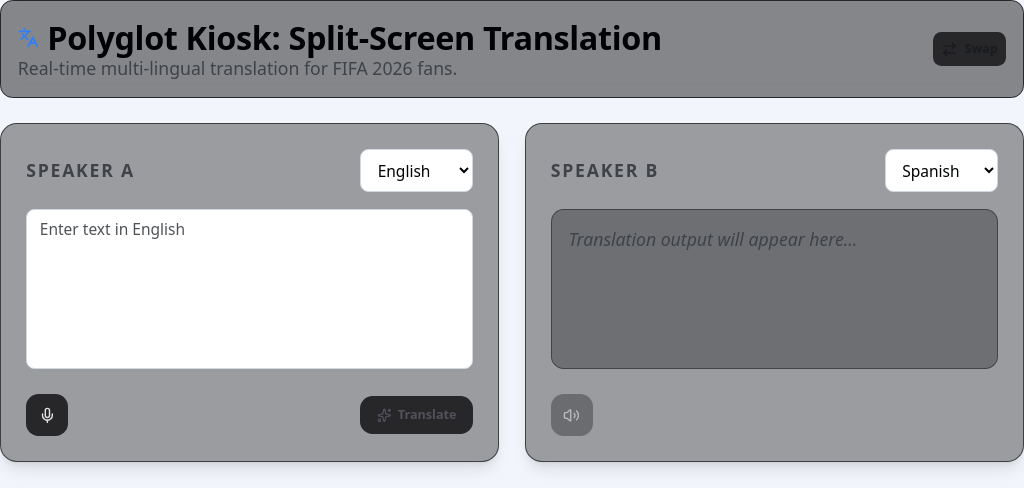
Test case: PolyglotKiosk Unit Component › translates to Arabic (covers L29 branch)
Note: Change target language to Arabic
Select "Arabic" in the dropdown named "Select Target Language for Speaker B": (941, 171) [885,149,998,192]
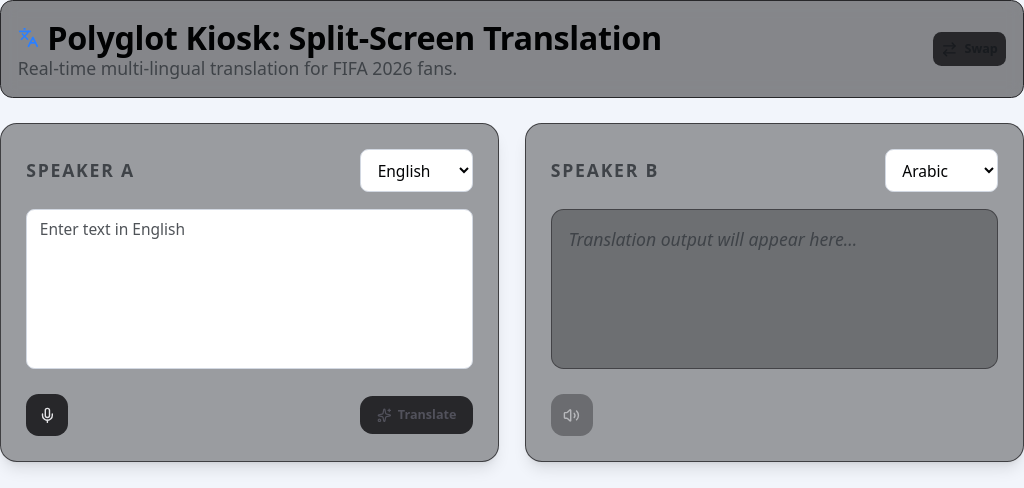
In the text box named "Select Language for Speaker A — English": (250, 289) [26,209,473,369], type "Welcome to the stadium"
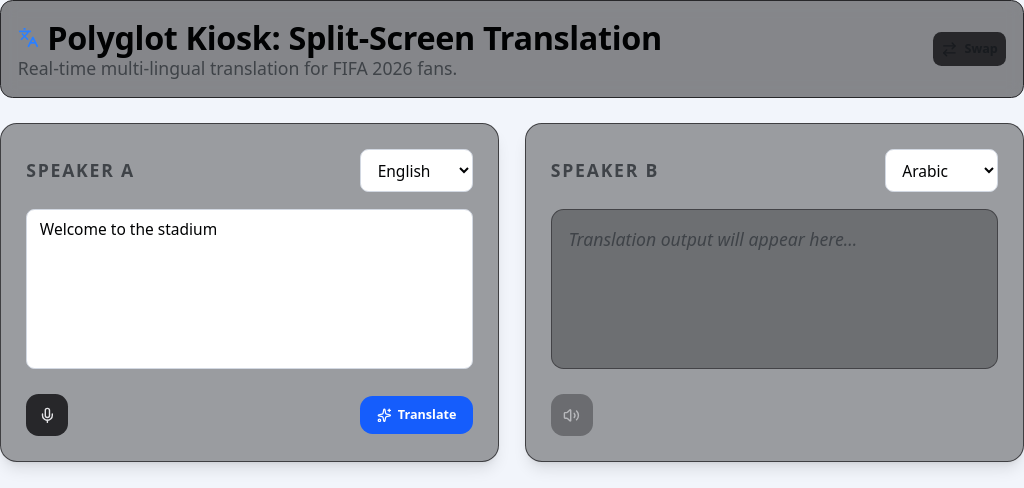
Click the button with aria-label "Translate spoken phrase": (417, 415) [360,396,473,434]
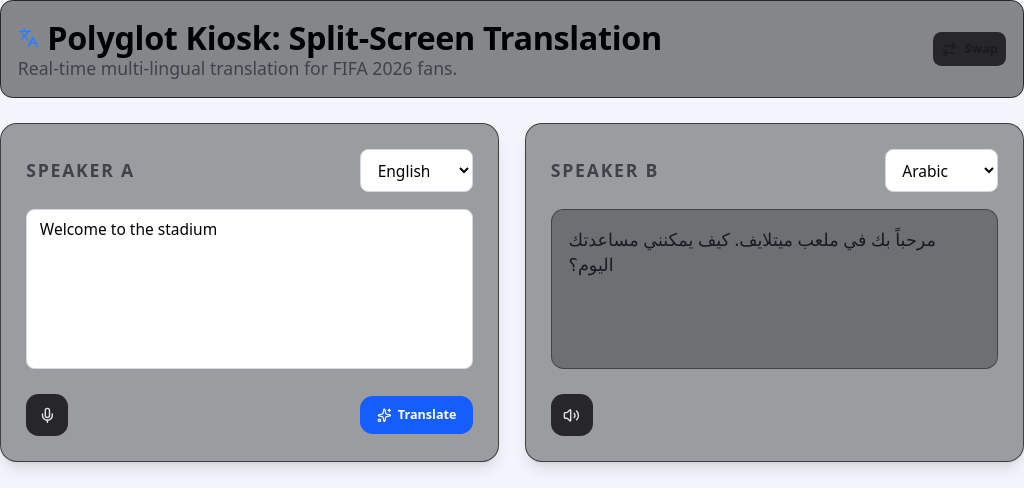
Expected: the text "مرحباً بك في ملعب ميتلايف. كيف يمكنني مساعدتك اليوم؟" is shown, [569,227,980,277]
